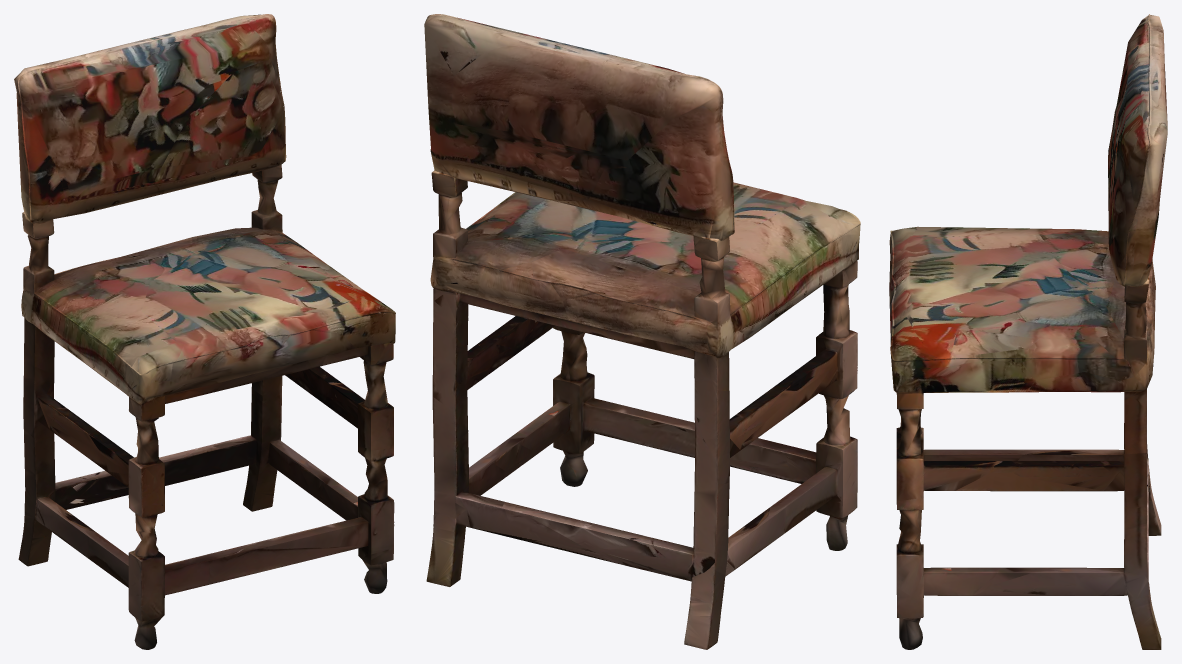
The picture shows the model from 3 angles, left to right: view 1: azimuth 30°, elevation 25°; view 2: azimuth 150°, elevation 25°; view 3: azimuth 270°, elevation 25°; orthographic projection. The views are drawn at different scales.
Visible parts, largest first — view 1: model; view 2: model; view 3: model.
Part boxes in pixels (x1=…): model: x1=14, y1=14, x2=395, y2=649; model: x1=424, y1=14, x2=860, y2=649; model: x1=889, y1=14, x2=1167, y2=649.
Size of the model in its own units: 17132 by 31289 by 15375.
Materials: 1 (1 with a texture image).
